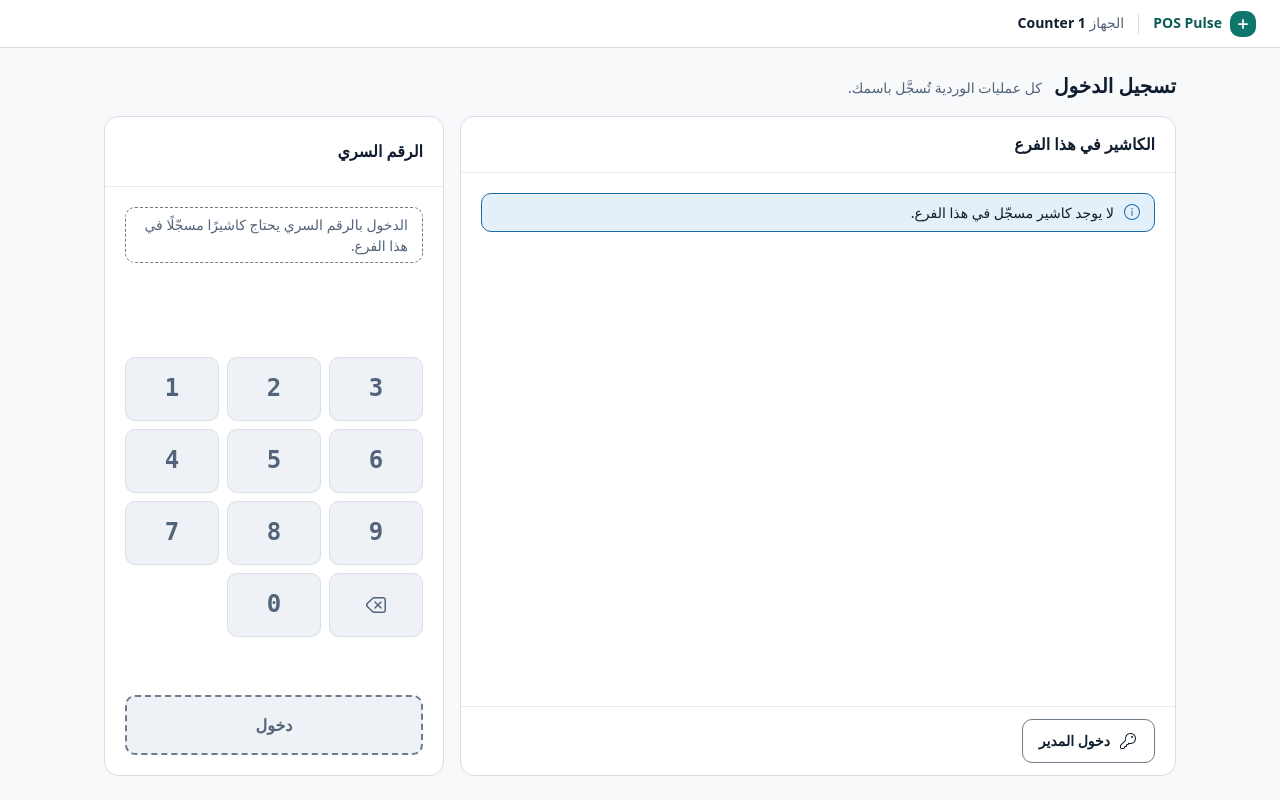
it: AppRouter + /sign-in (T022) › renders /sign-in directly with the manager entry and the empty-roster state
Click the button with test id "sign-in-manager-entry" at (1088, 741), box [1022,719,1155,763]
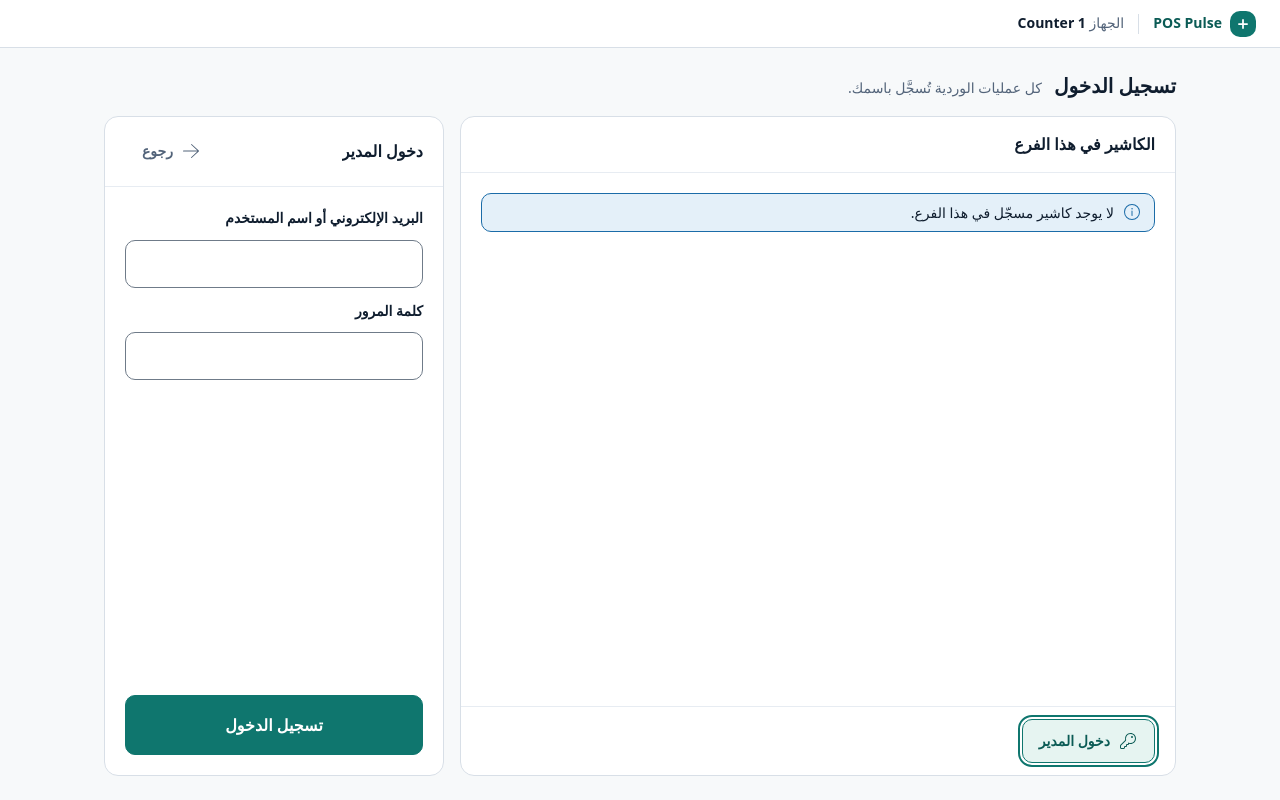
Result: the form with test id "manager-admin-sign-in-form" is shown at [105,187,443,775]
